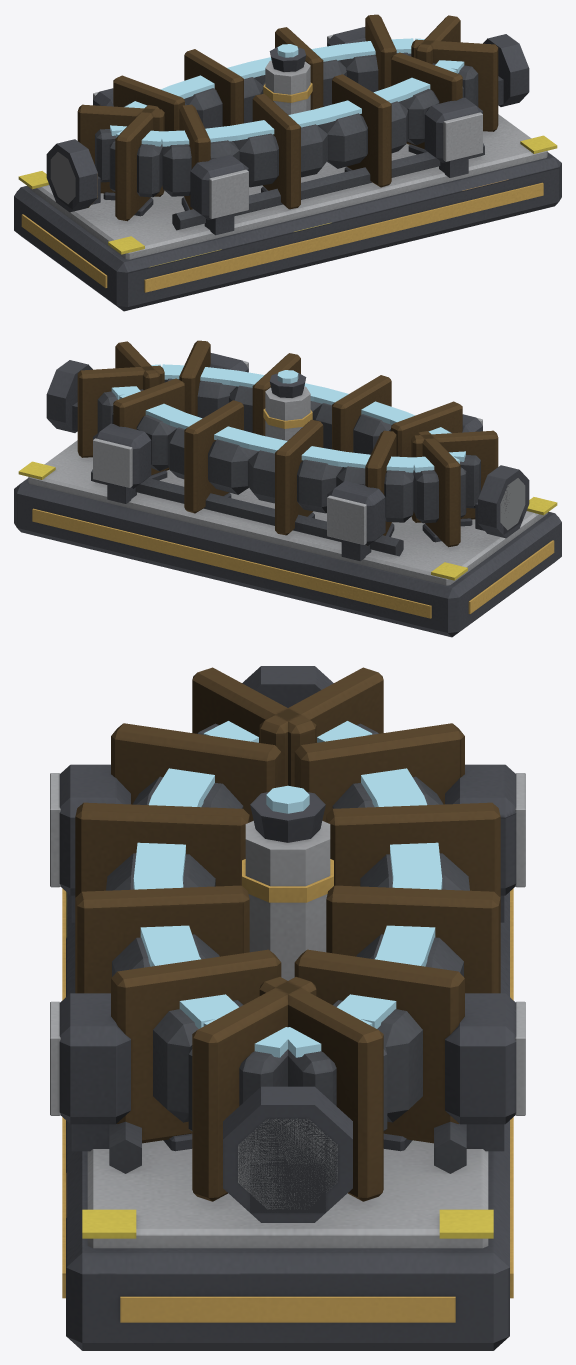
File: SM_FusionReactor.fbx
3 views of the same model, one above another, from view 1: azimuth 30°, elevation 25°; view 2: azimuth 150°, elevation 25°; view 3: azimuth 270°, elevation 25° (orthographic). The views are drawn at different scales.
Parts seen in each view (by area): view 1: SMN_FusionReactor, Plasma; view 2: SMN_FusionReactor, Plasma; view 3: SMN_FusionReactor, Plasma.
Part boxes in pixels (box(x1,y1,x2,y2)): SMN_FusionReactor: box(14, 14, 561, 311); Plasma: box(110, 38, 464, 146); SMN_FusionReactor: box(14, 340, 561, 637); Plasma: box(111, 364, 465, 472); SMN_FusionReactor: box(50, 666, 525, 1350); Plasma: box(133, 721, 442, 1057).
Bounding box in the file's own units: 1.92 × 0.705 × 0.88.
